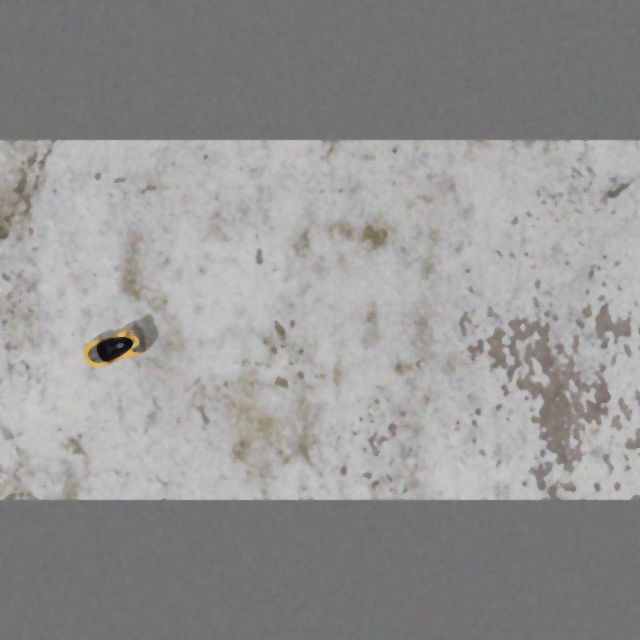car: (75, 322, 153, 373)
